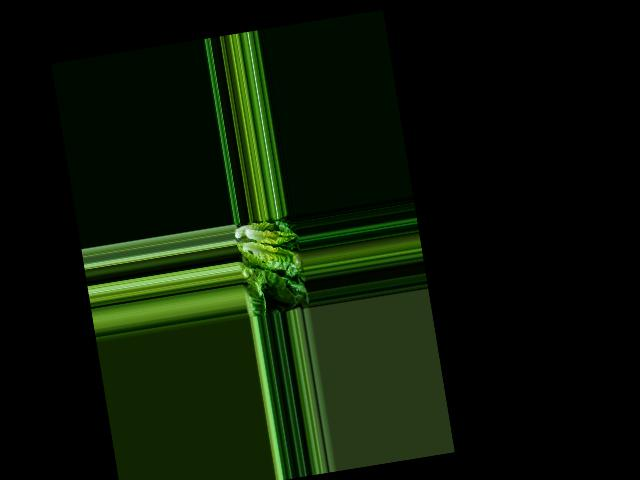lettuce: (232, 216, 301, 286)
